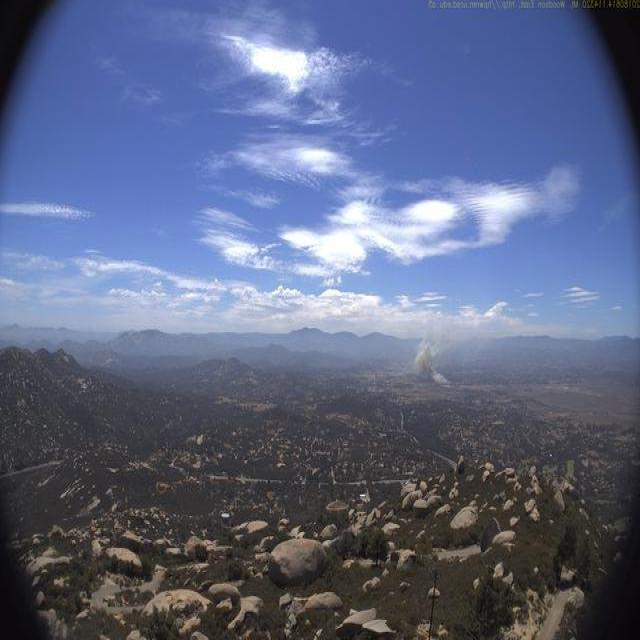Smoke: (409, 324, 455, 392)
